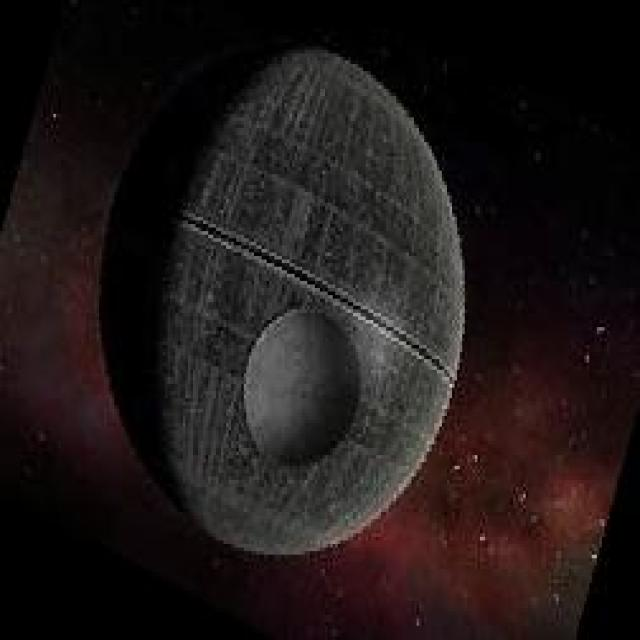Death Star: (105, 29, 460, 559)
